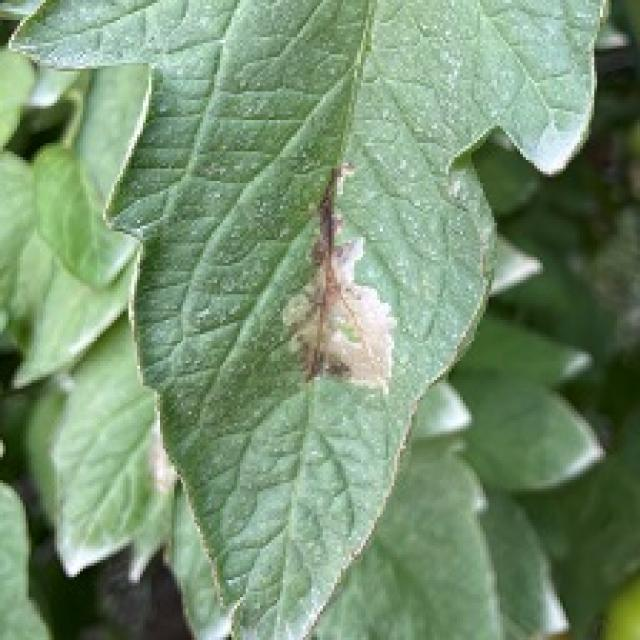Tuta absoluta: (275, 203, 409, 389)
